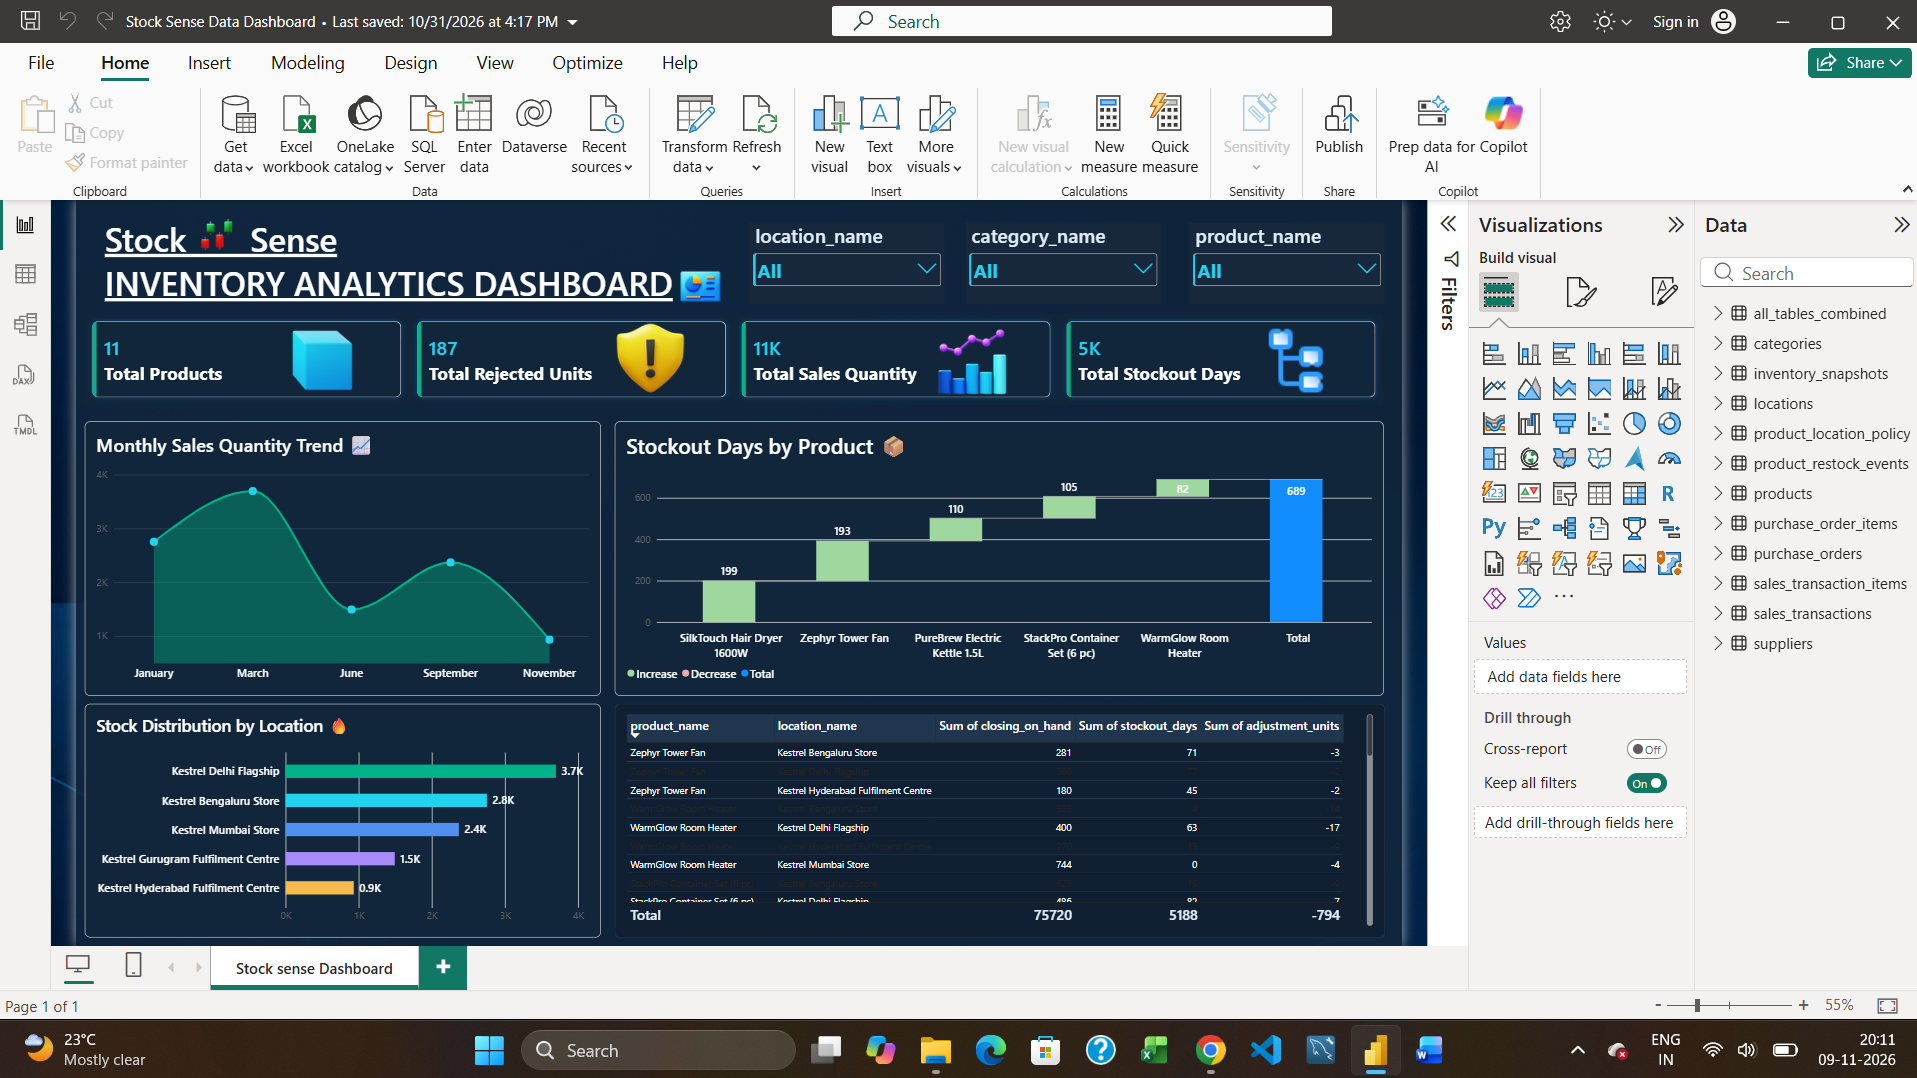

Layout of this report page (visuals, bound fields, positions):
{"tool":"powerbi","page":{"name":"Stock sense Dashboard ","canvas":[1920,1080],"ordinal":0},"visuals":[{"type":"textbox","box":[42.3,23.9,822.7,134.4],"z":0},{"type":"cardVisual","fields":{"Data":["categories.Total Products","categories.Total Rejected Units","categories.Total Sales Quantity","categories.Total Stockout Days"]},"box":[12.9,163.8,1882.8,132.5],"z":1000},{"type":"stackedAreaChart","title":"Monthly Sales Quantity Trend 📈","fields":{"Category":["locations.opened_date.Variation.Date Hierarchy.Month"],"Y":["categories.Total Sales Quantity"]},"box":[12.9,320.2,747.2,397.5],"z":2000},{"type":"barChart","title":"Stock Distribution by Location 🔥","fields":{"Category":["locations.location_name"],"Y":["categories.Total Sales Quantity"]},"box":[12.9,728.8,747.2,338.7],"z":3000},{"type":"waterfallChart","title":"Stockout Days by Product  📦 ","fields":{"Category":["products.product_name"],"Y":["categories.Total Stockout Days"]},"box":[780.4,320.2,1113.5,397.5],"z":4000},{"type":"tableEx","fields":{"Values":["products.product_name","locations.location_name","Sum(inventory_snapshots.closing_on_hand)","Sum(inventory_snapshots.stockout_days)","Sum(inventory_snapshots.adjustment_units)"]},"box":[780,729,1115,339],"z":5000},{"type":"image","box":[242.9,176.7,228.2,110.4],"z":6000},{"type":"image","box":[714.1,169.3,233.7,117.8],"z":7000},{"type":"image","box":[1163.2,176.7,266.9,119.6],"z":8000},{"type":"image","box":[1612.3,176.7,307.4,110.4],"z":9000},{"type":"image","box":[86.5,23.9,233.7,53.4],"z":10000},{"type":"image","box":[831.9,92,143.6,66.3],"z":11000},{"type":"slicer","fields":{"Values":["locations.location_name"]},"box":[975.5,33.1,281.6,117.8],"z":12000},{"type":"slicer","fields":{"Values":["products.product_name"]},"box":[1612.3,33.1,281.6,117.8],"z":13000},{"type":"slicer","fields":{"Values":["all_tables_combined.category_name"]},"box":[1288.4,33.1,281.6,117.8],"z":14000}]}

Visuals, with their boxes on the page's 1920x1080 design canvas (x1, y1, x2, y2). These are canvas units, not pixel positions in the 1917x1078 screenshot, which may show the page scaled, cropped or inside an application window:
textbox: x1=42, y1=24, x2=865, y2=158
cardVisual - categories.Total Products x categories.Total Rejected Units: x1=13, y1=164, x2=1896, y2=296
"Monthly Sales Quantity Trend 📈" stackedAreaChart: x1=13, y1=320, x2=760, y2=718
"Stock Distribution by Location 🔥" barChart: x1=13, y1=729, x2=760, y2=1068
"Stockout Days by Product  📦 " waterfallChart: x1=780, y1=320, x2=1894, y2=718
tableEx - products.product_name x locations.location_name: x1=780, y1=729, x2=1895, y2=1068
image: x1=243, y1=177, x2=471, y2=287
image: x1=714, y1=169, x2=948, y2=287
image: x1=1163, y1=177, x2=1430, y2=296
image: x1=1612, y1=177, x2=1920, y2=287
image: x1=86, y1=24, x2=320, y2=77
image: x1=832, y1=92, x2=976, y2=158
slicer - locations.location_name: x1=976, y1=33, x2=1257, y2=151
slicer - products.product_name: x1=1612, y1=33, x2=1894, y2=151
slicer - all_tables_combined.category_name: x1=1288, y1=33, x2=1570, y2=151
